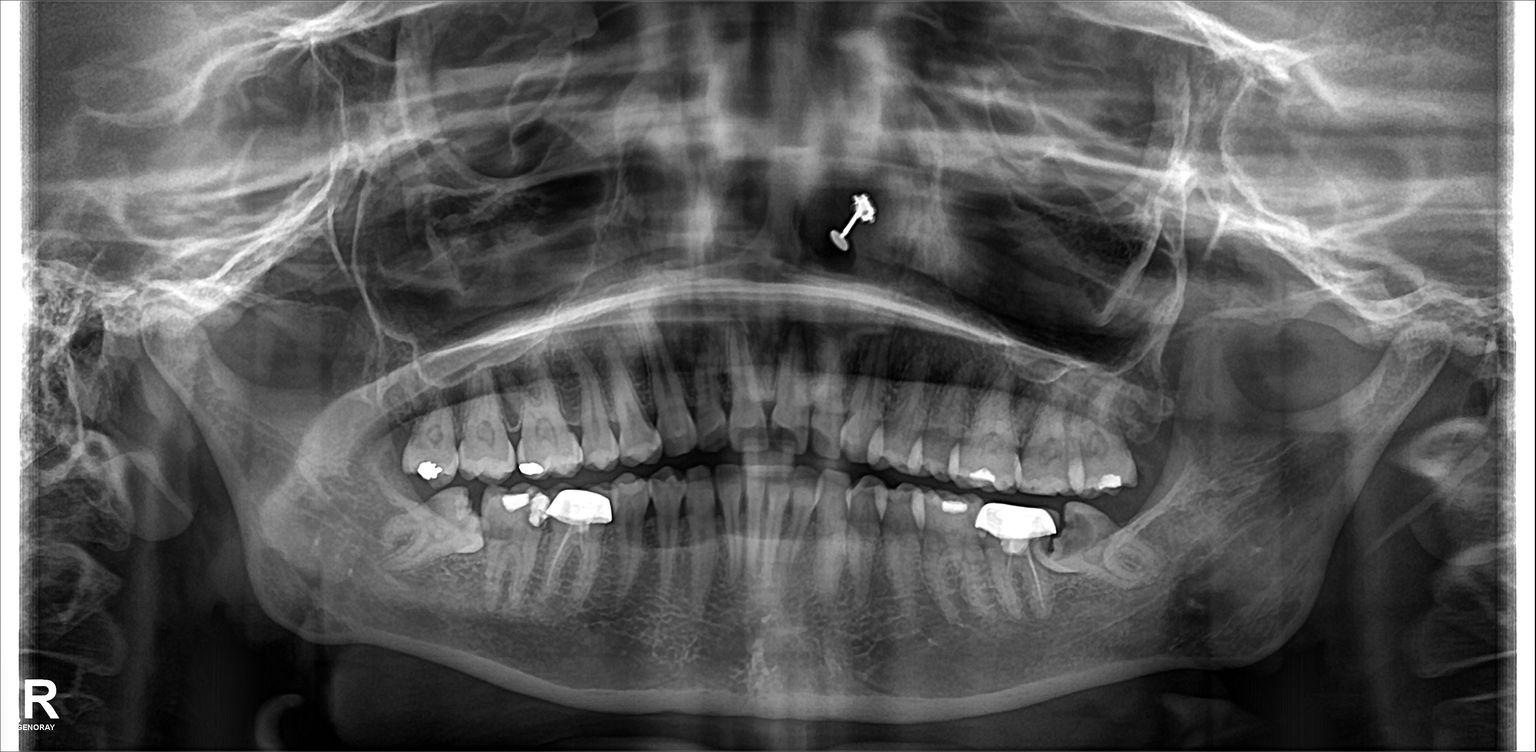Dental Caries: (775, 421, 797, 447)
Endodontically Treated Tooth: (991, 512, 1050, 617), (557, 491, 606, 590)
Impacted Third Molar: (1050, 508, 1141, 585), (382, 496, 474, 570)
Missing Tooth: (1136, 387, 1180, 477)
